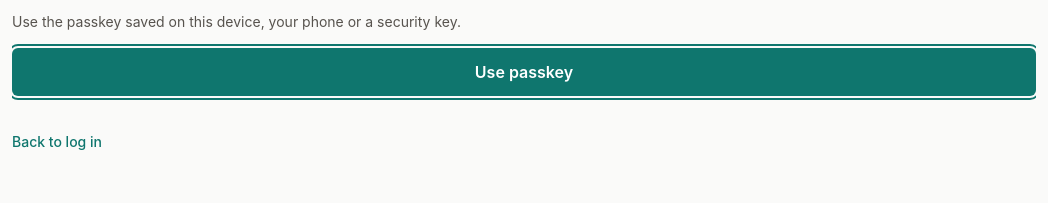
VerifyLogin › explains a passkey the browser could not use
Click the button "Use passkey" at (524, 72), box [12, 48, 1036, 96]
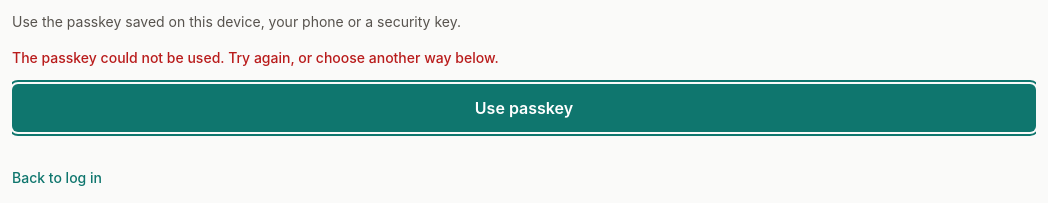
Check: the message reads "The passkey could not be used. Try again, or choose another way below.", box [12, 49, 499, 66]
